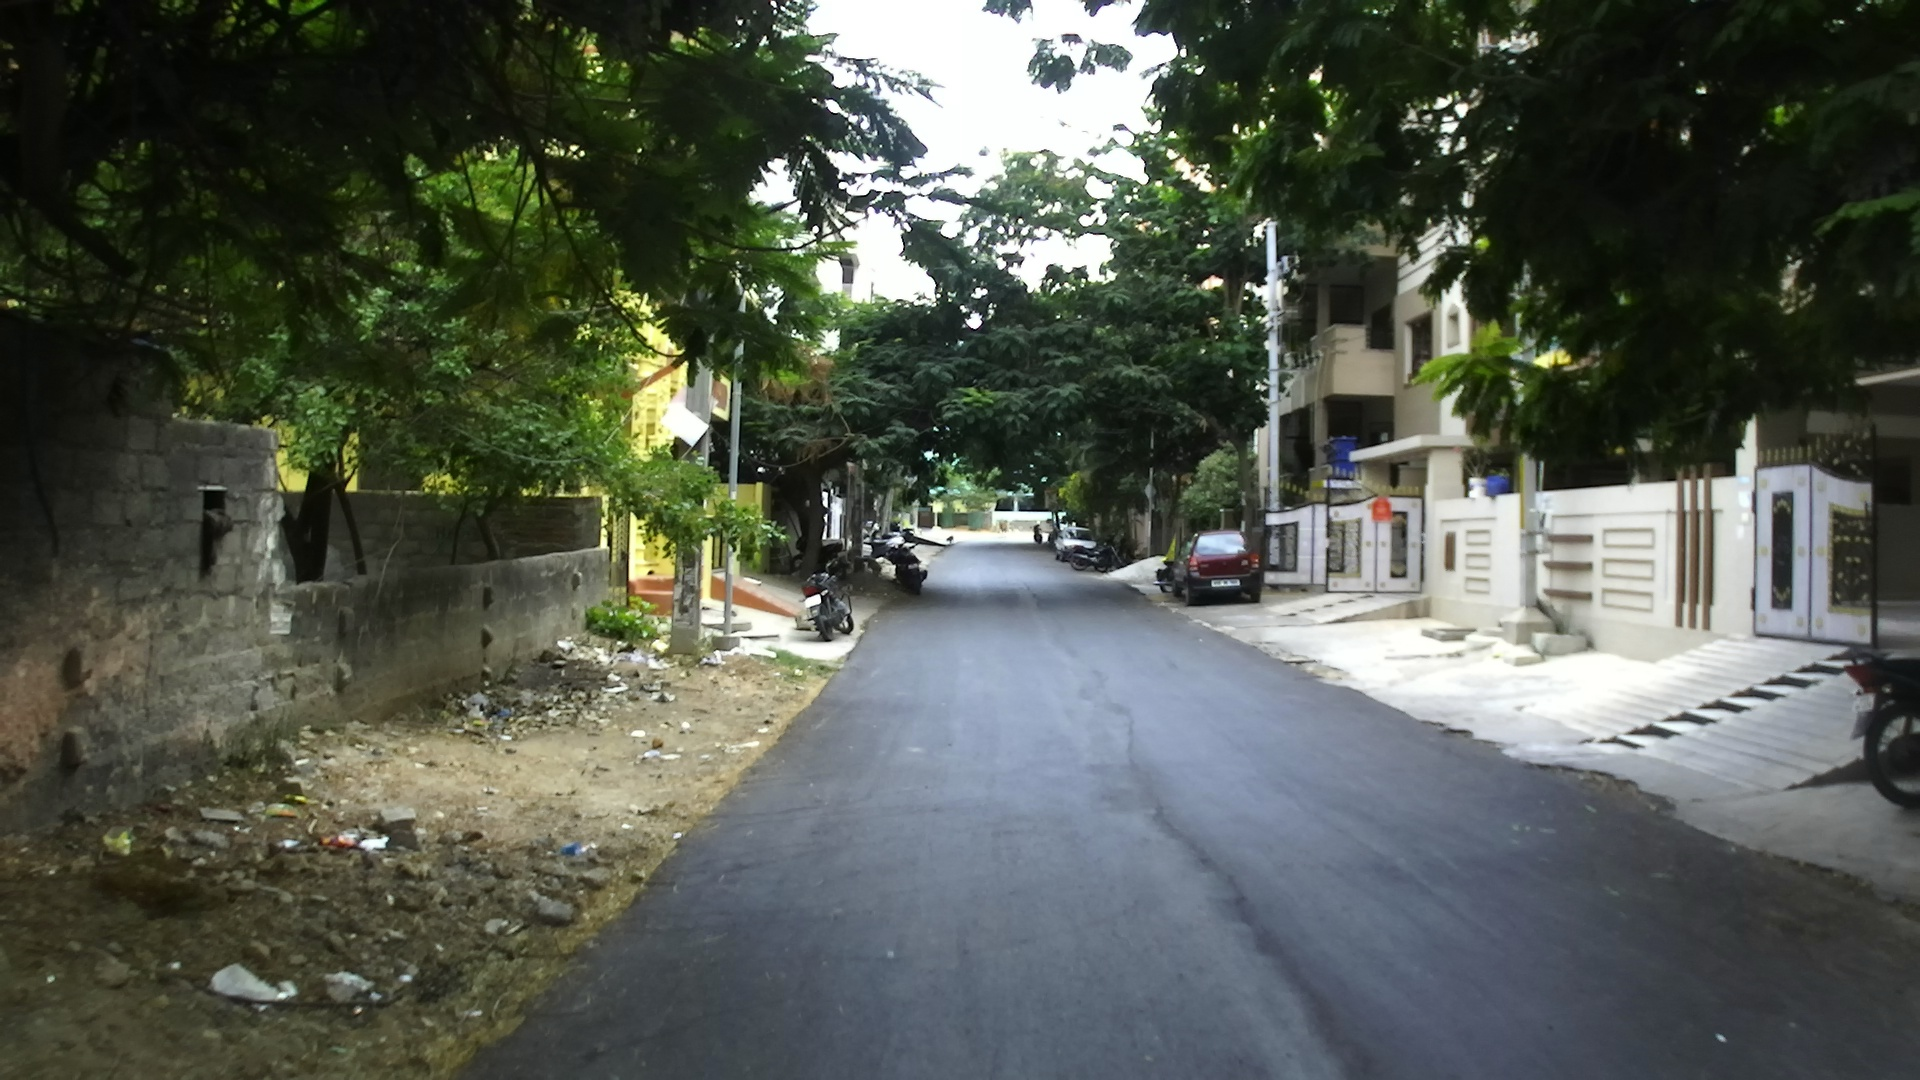vehicle: (1841, 622, 1919, 812), (1174, 530, 1263, 603), (1059, 534, 1108, 570)
